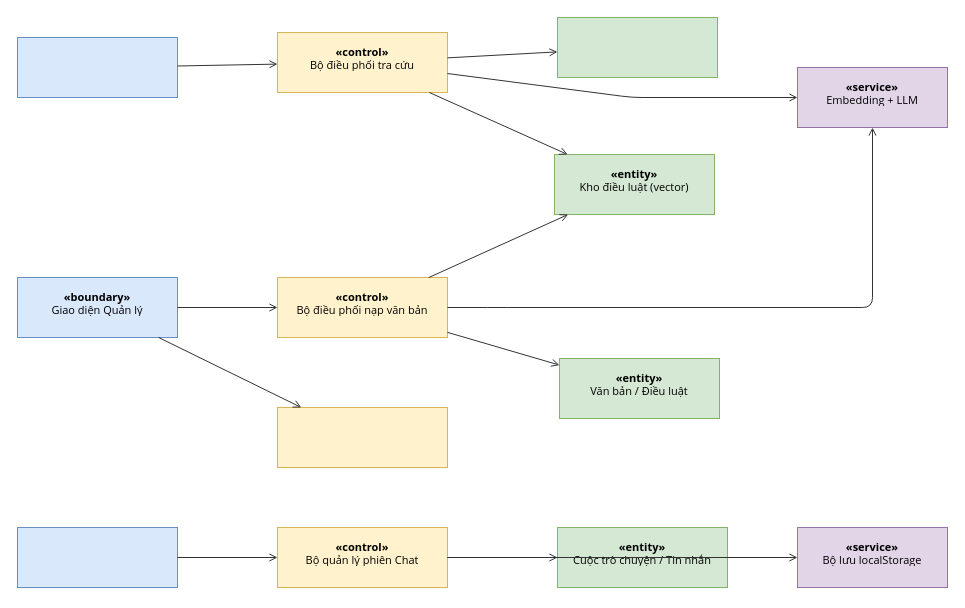
Some shapes in this 965 by 608 pixel diagram are drawn without their labels. Each missing label, with the centre of its shape:
«boundary» Giao diện Chat: the point at 97,67
«boundary» Thanh lịch sử Chat: the point at 97,557
«control» Bộ xác thực admin: the point at 362,437
«entity» Câu hỏi / Câu trả lời: the point at 637,47
